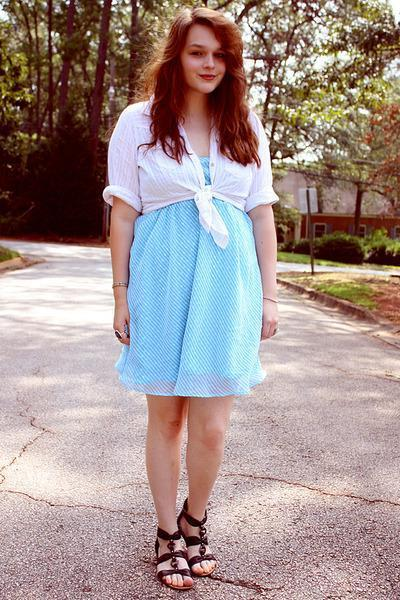dress: (116, 152, 263, 392)
short sleeve shirt: (92, 95, 296, 208)
